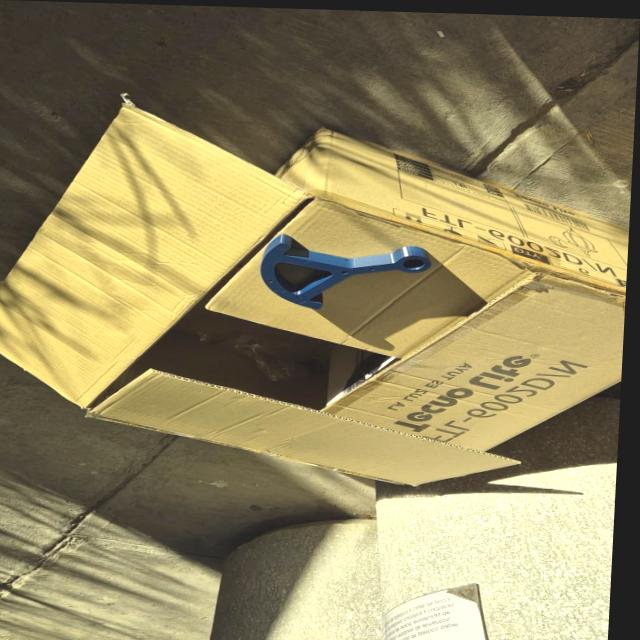haptic: (256, 233, 433, 314)
